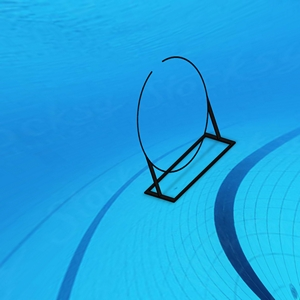circle: (132, 54, 239, 205)
